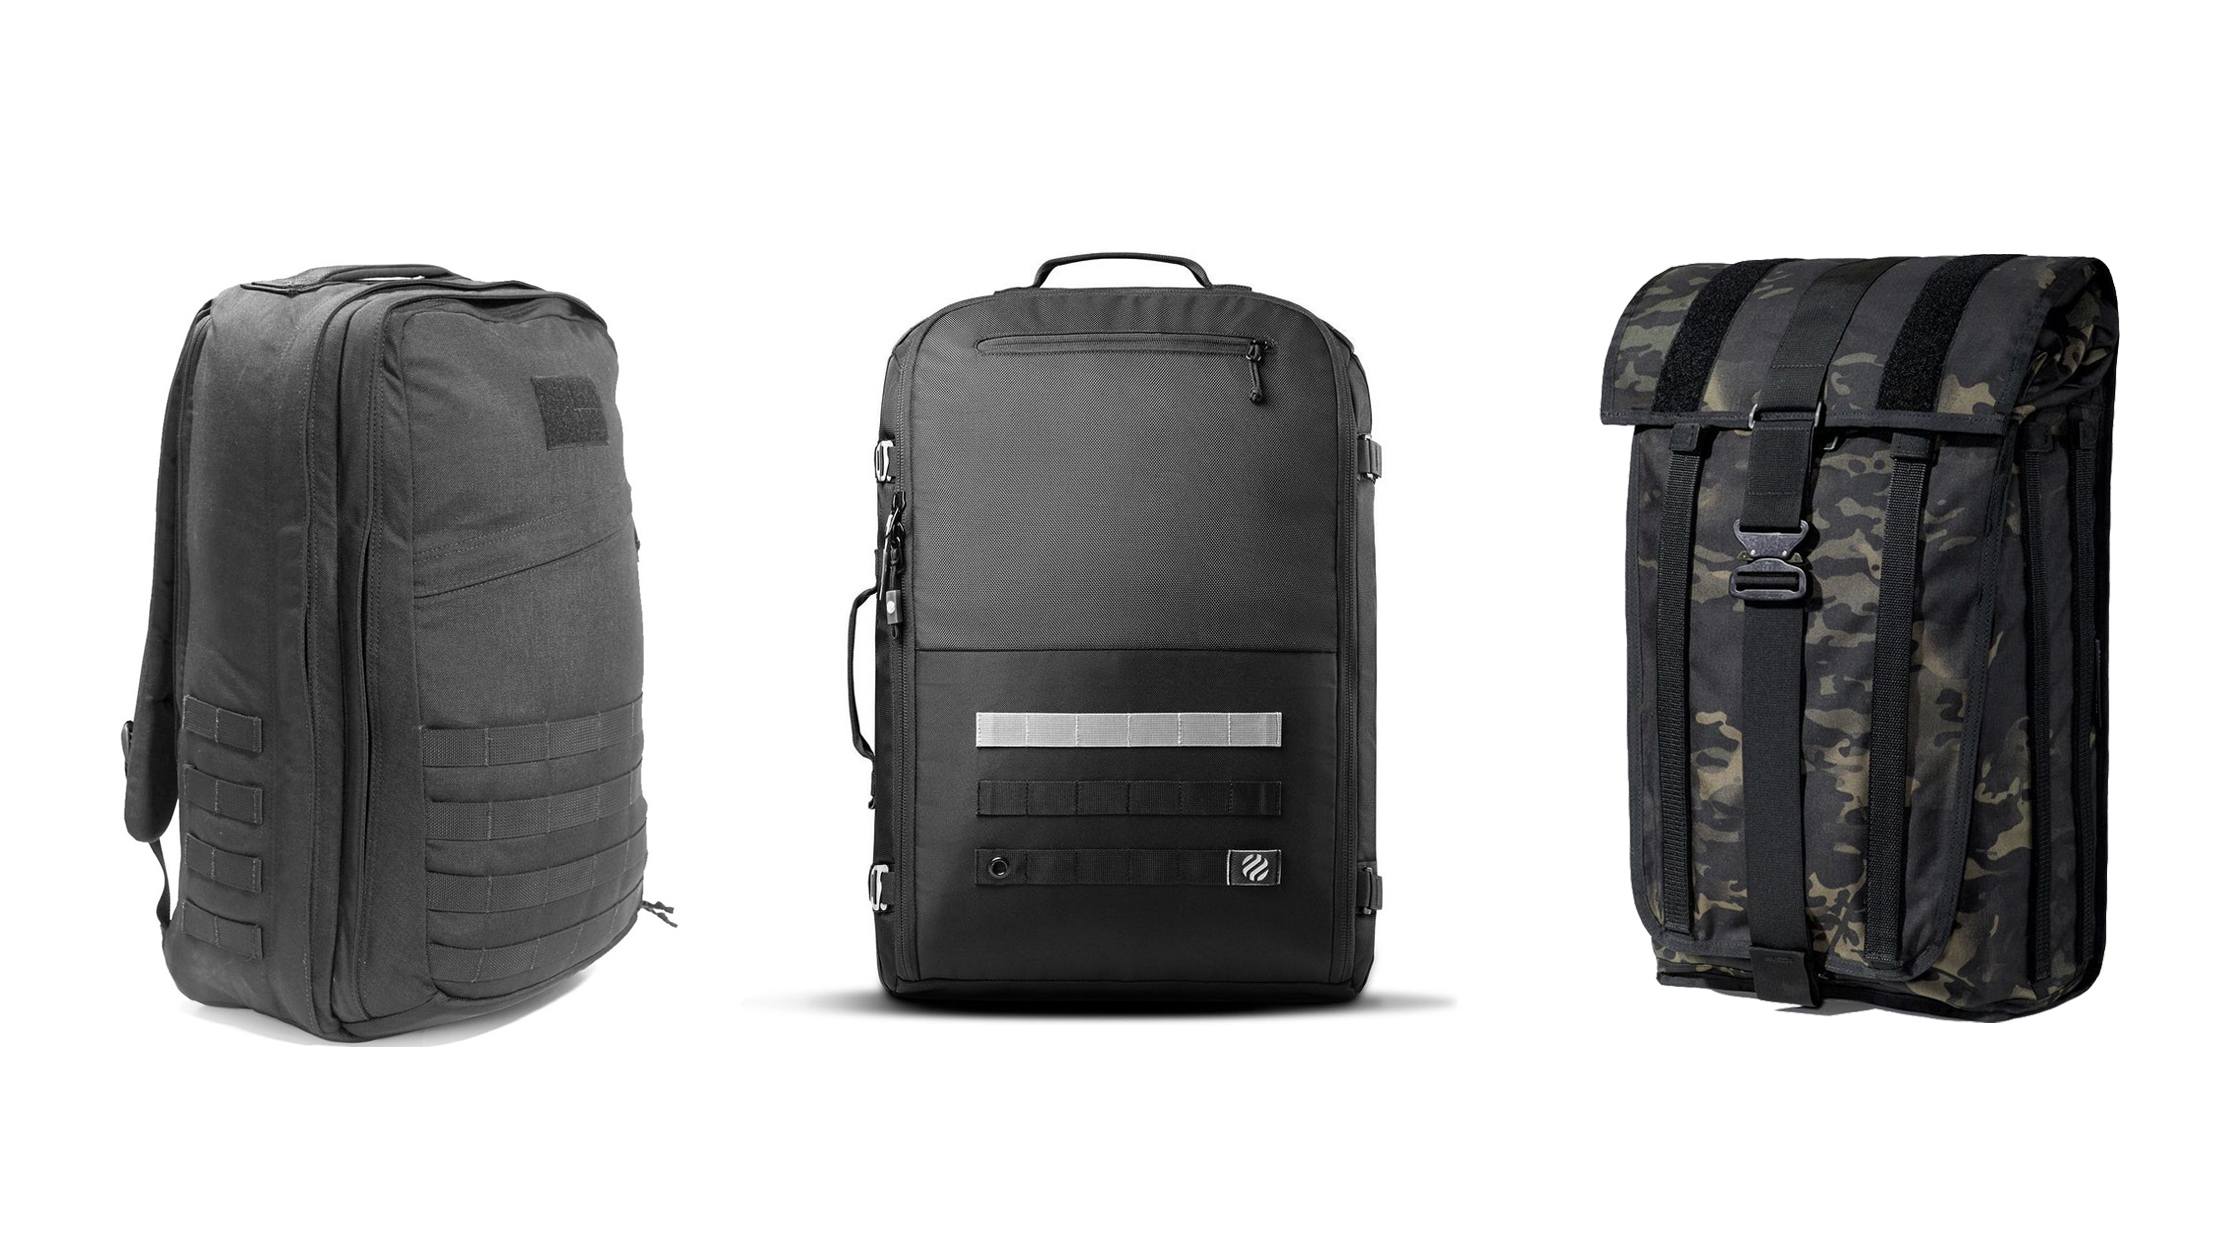backpack: (78, 235, 710, 1078), (824, 222, 1429, 1049), (1590, 214, 2142, 1052)
